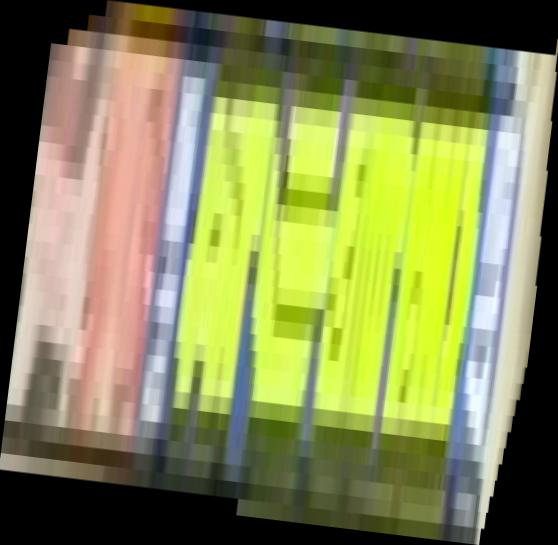flat: (1, 1, 558, 545)
